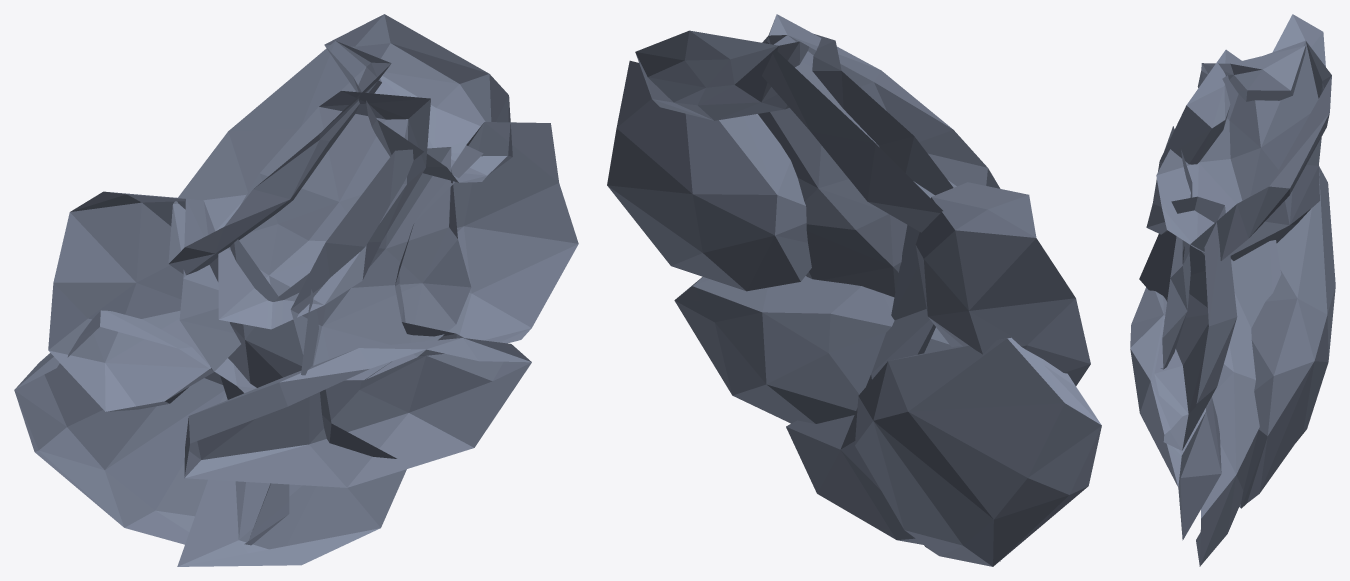
The model's file is Terrain_Stage2_Mountain_9.fbx.
3 renders of one model, left to right at view 1: azimuth 30°, elevation 25°; view 2: azimuth 150°, elevation 25°; view 3: azimuth 270°, elevation 25°, orthographic. The views are drawn at different scales.
Parts seen in each view (by area): view 1: terrain_mountain_402_28; view 2: terrain_mountain_402_28; view 3: terrain_mountain_402_28.
Part boxes in pixels (left/top/right/bottom): terrain_mountain_402_28: left=14, top=14, right=578, bottom=566; terrain_mountain_402_28: left=607, top=14, right=1101, bottom=566; terrain_mountain_402_28: left=1130, top=14, right=1335, bottom=566.
Bounding box in the file's own units: 214 × 189 × 64.67.
Materials: 1 (1 with a texture image).
